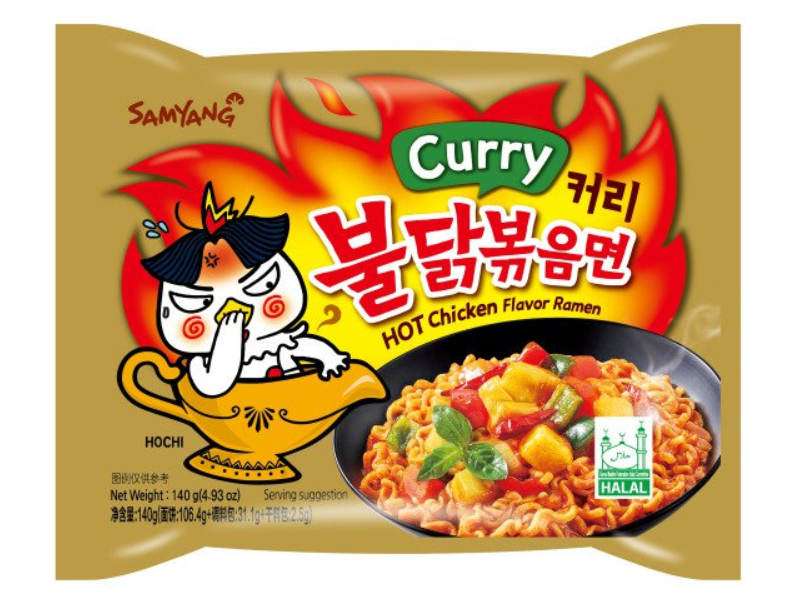Snack: (40, 20, 758, 586)
